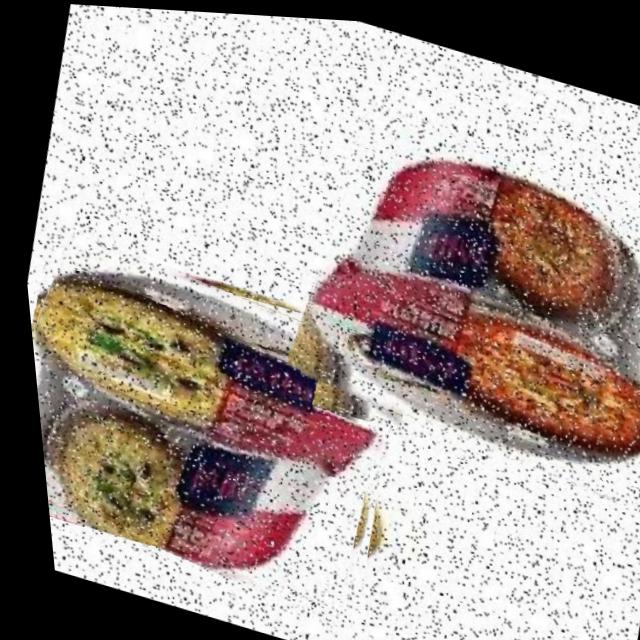Miscellaneous: (17, 227, 424, 622), (260, 88, 640, 502)
